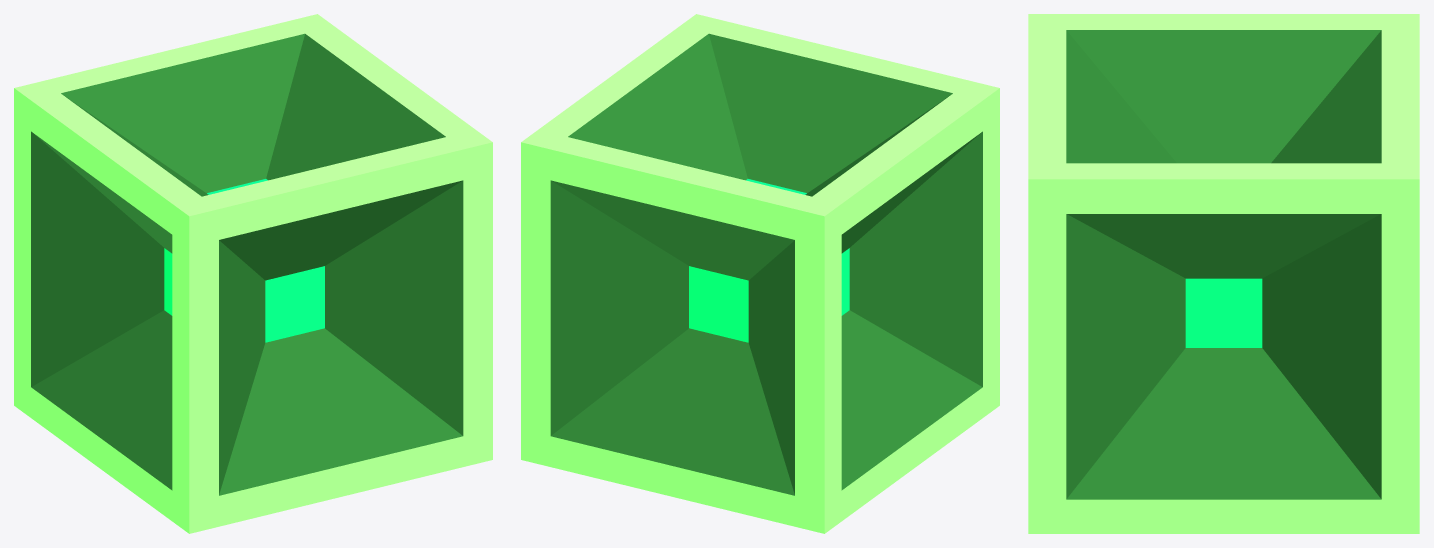
File: moonjam_green_tron.fbx
The picture shows the model from 3 angles, left to right: view 1: azimuth 30°, elevation 25°; view 2: azimuth 150°, elevation 25°; view 3: azimuth 270°, elevation 25°; orthographic projection. The views are drawn at different scales.
Visible parts, largest first — view 1: Cube; view 2: Cube; view 3: Cube.
Boxes of the visible parts, x1,y1,x2,y2 form: Cube: [14, 14, 492, 533]; Cube: [521, 14, 999, 533]; Cube: [1028, 14, 1419, 533].
Bounding box in the file's own units: 200 × 200 × 200.
